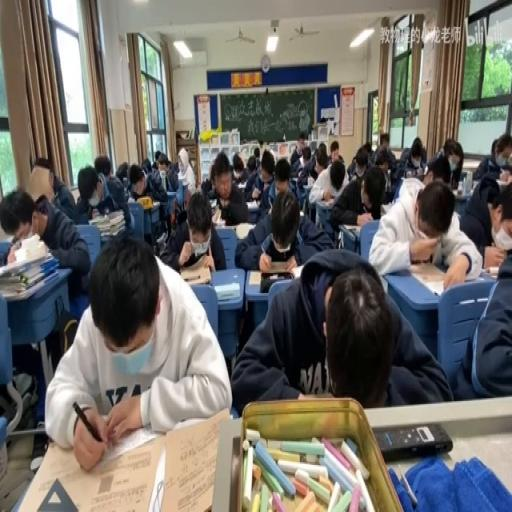calculator: (247, 268, 300, 288), (179, 263, 211, 286), (214, 282, 240, 300), (268, 258, 294, 272), (234, 222, 252, 240), (294, 179, 308, 199), (291, 263, 308, 279), (482, 264, 501, 278), (342, 222, 362, 235), (315, 196, 335, 209), (67, 185, 80, 205), (210, 205, 222, 222), (380, 200, 393, 214), (496, 175, 510, 186), (406, 168, 419, 178), (300, 198, 307, 216), (245, 201, 260, 209), (305, 175, 314, 188), (149, 199, 159, 209), (126, 196, 136, 205), (210, 196, 218, 206), (177, 174, 185, 184), (236, 181, 246, 189), (290, 175, 298, 183)
paper: (46, 232, 230, 468), (228, 250, 445, 417), (370, 176, 480, 294), (0, 182, 89, 296), (450, 252, 510, 401), (235, 184, 328, 268), (159, 189, 226, 276), (330, 158, 386, 233), (82, 156, 132, 232), (131, 160, 170, 240), (421, 138, 462, 192), (470, 134, 510, 180), (394, 135, 426, 182), (174, 148, 196, 212), (294, 142, 322, 185), (491, 185, 512, 240), (272, 156, 290, 194), (161, 155, 179, 192), (346, 151, 362, 179), (93, 155, 111, 179), (328, 141, 342, 169), (129, 164, 144, 189), (259, 154, 274, 179), (34, 155, 53, 174), (200, 174, 214, 196), (115, 159, 128, 181), (34, 198, 48, 218), (231, 154, 243, 176), (379, 131, 389, 148), (141, 158, 152, 173), (245, 154, 255, 170), (362, 142, 372, 158), (376, 155, 386, 171), (384, 168, 390, 190), (253, 146, 259, 164), (302, 155, 310, 168), (251, 138, 261, 148), (288, 144, 295, 158), (298, 136, 304, 150), (154, 149, 160, 162), (150, 161, 157, 169), (336, 154, 343, 160)
person: (374, 422, 452, 462), (455, 186, 461, 194)
